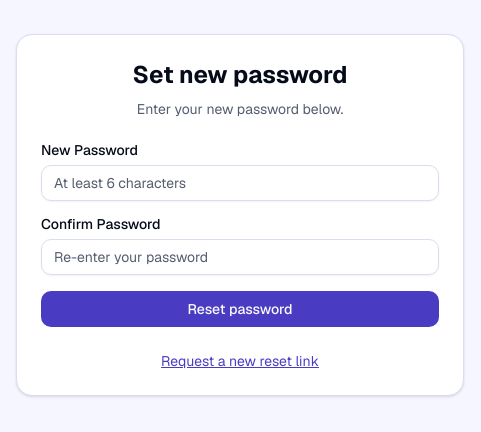
Scenario: ResetPasswordPage › shows validation error for short password
This screenshot has width=481, height=432.
Type "12345" into the password field labelled "New Password". click: (240, 183)
box: left=41, top=165, right=439, bottom=201
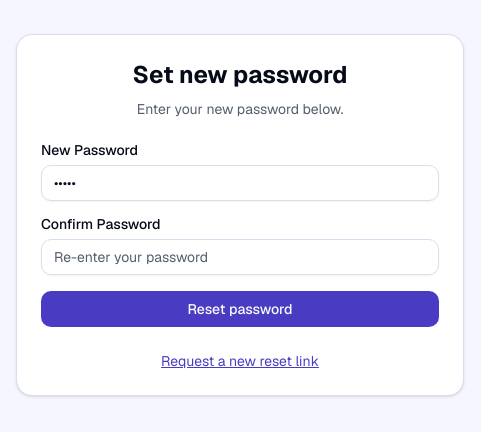
Type "12345" into the password field labelled "Confirm Password". click: (240, 257)
box: left=41, top=239, right=439, bottom=275
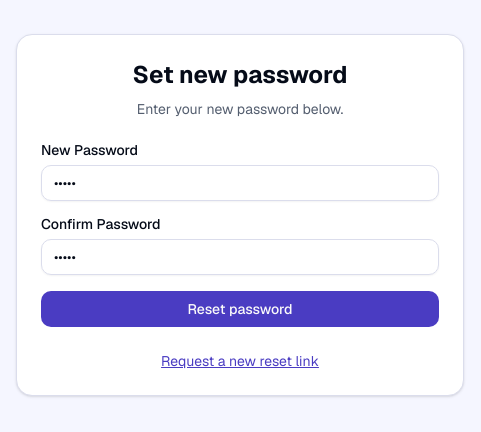
Click the button "Reset password". click: (240, 309)
box: left=41, top=291, right=439, bottom=327
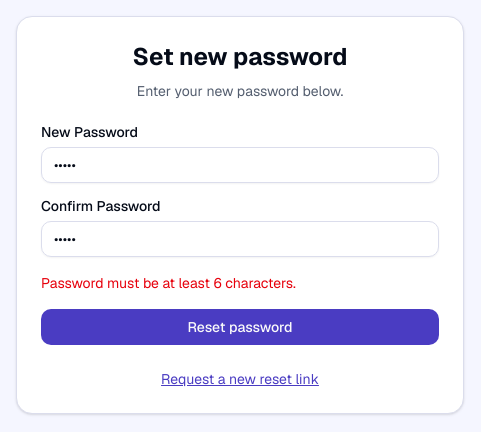
Expected: the message shows "at least 6 characters", left=41, top=274, right=296, bottom=292
